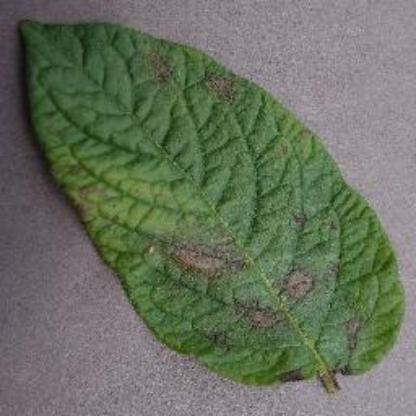Late-Blight: (13, 5, 406, 410)
